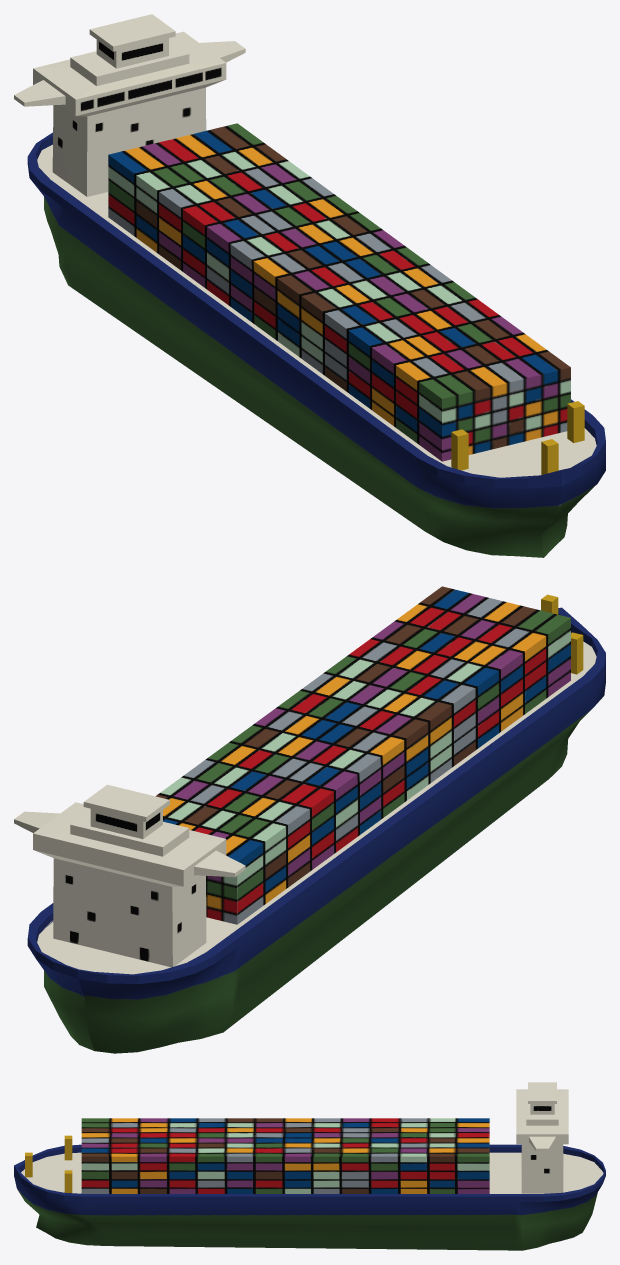
The model's file is cargo_ship.glb.
The picture shows the model from 3 angles, top to bottom: view 1: azimuth 30°, elevation 25°; view 2: azimuth 150°, elevation 25°; view 3: azimuth 270°, elevation 25°; orthographic projection. The views are drawn at different scales.
Visible parts, largest first — view 1: Object_2; view 2: Object_2; view 3: Object_2.
Part boxes in pixels (x1=…): Object_2: x1=14, y1=14, x2=605, y2=557; Object_2: x1=14, y1=586, x2=605, y2=1053; Object_2: x1=14, y1=1082, x2=605, y2=1250.
Bounding box in the file's own units: 82 × 79.27 × 311.
1 material, 1 textured.
